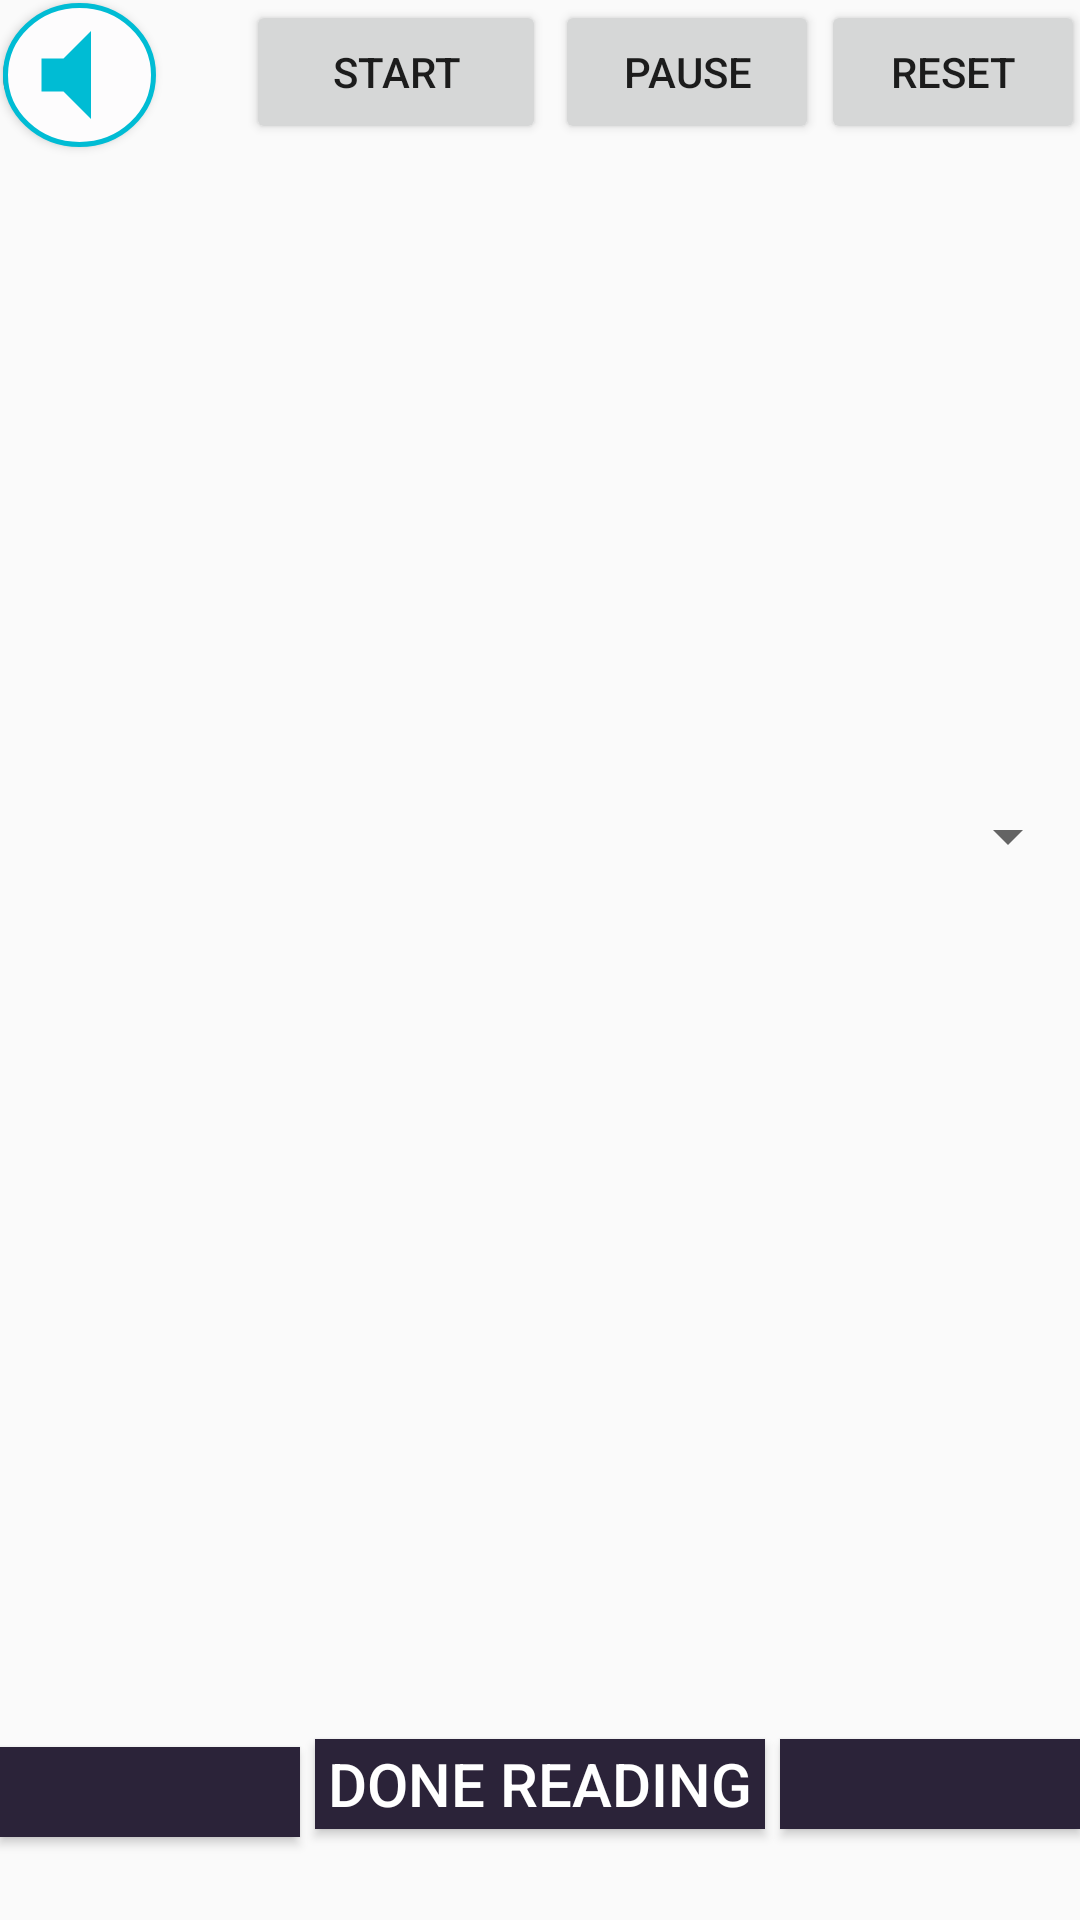

Icons on this 1080px×1920px Android screen, each with the point to tap as (x=x, y=y):
roundbutton: (x=79, y=75)
